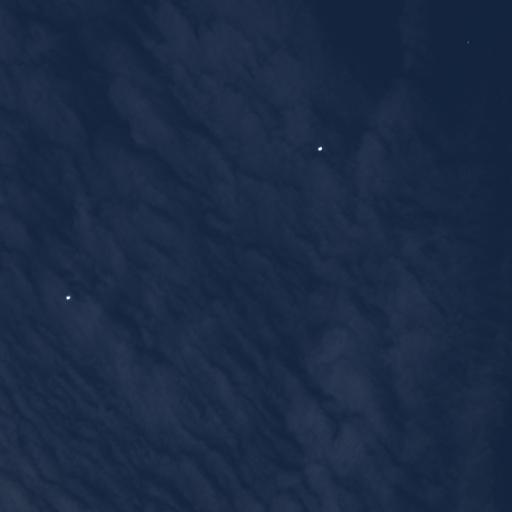Iceberg: (317, 146, 322, 151), (66, 295, 70, 299), (467, 41, 468, 43)
